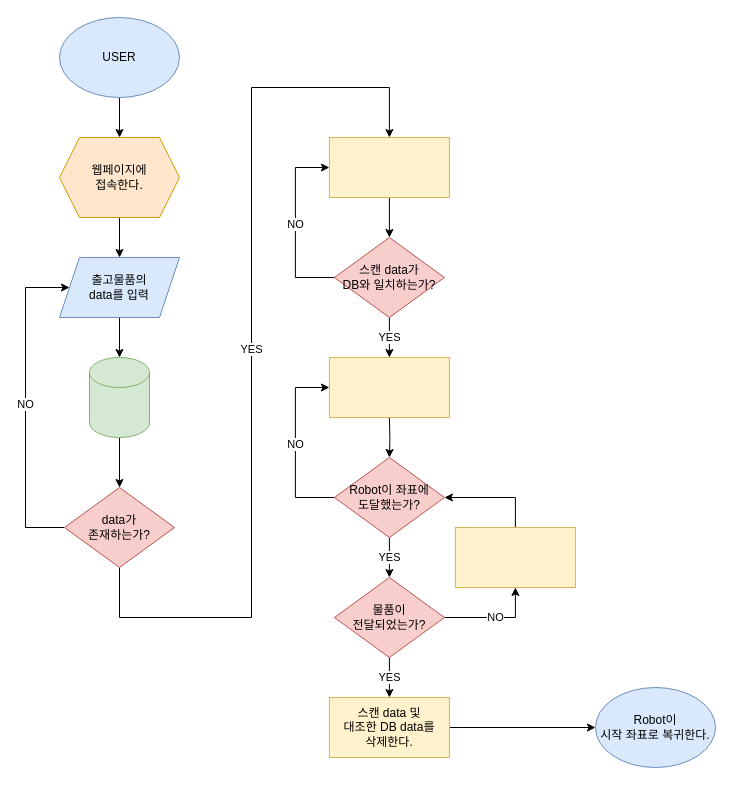
This 733x785 diagram has some shape labels left out. The centre of each missing label's shape, as x and y in pixels:
"data를 DB에 기록" goes at pixel 119 397.
"Robot이 대기한다." goes at pixel 514 557.
"Robot이 물품을 스캔한다." goes at pixel 388 167.
"Robot이 물품을 특정 좌표로 이동한다." goes at pixel 388 387.
